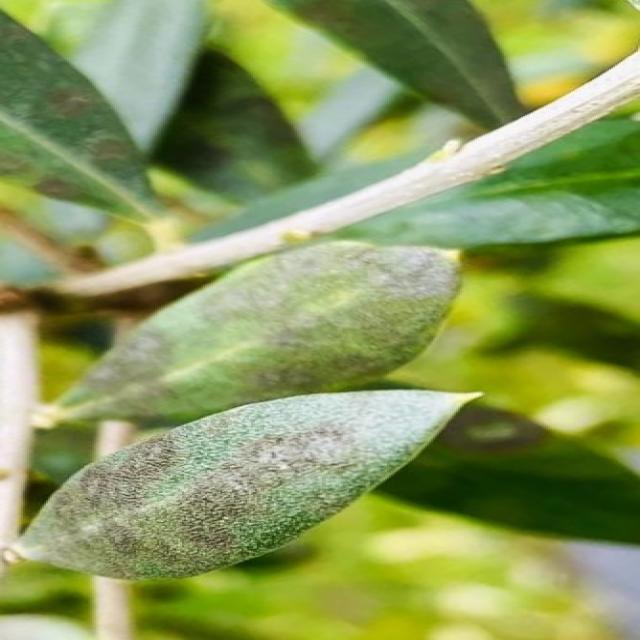Peacock Eye: (10, 392, 479, 579), (40, 241, 460, 426)
